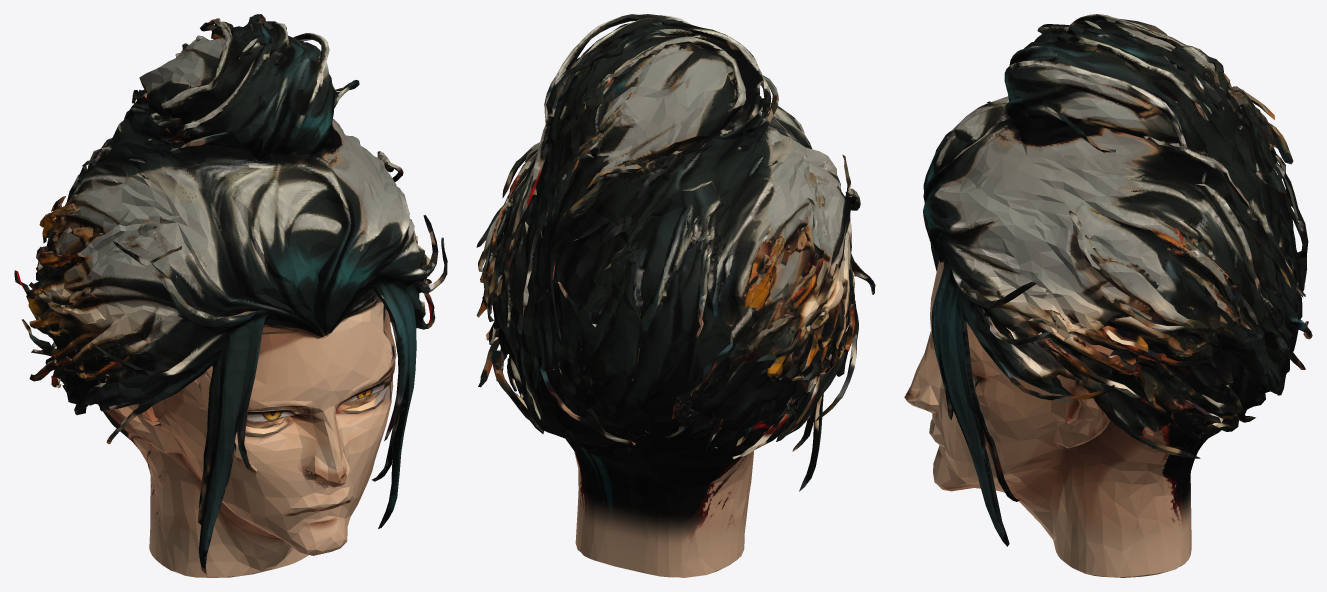
Rendered from side_citizen_repaired_atlas.glb.
3 renders of one model, left to right at view 1: azimuth 30°, elevation 25°; view 2: azimuth 150°, elevation 25°; view 3: azimuth 270°, elevation 25°, orthographic. The views are drawn at different scales.
Parts seen in each view (by area): view 1: temp_mesh.ply; view 2: temp_mesh.ply; view 3: temp_mesh.ply.
Boxes of the visible parts, left/top/right/bottom form: temp_mesh.ply: left=14, top=14, right=447, bottom=577; temp_mesh.ply: left=476, top=14, right=875, bottom=577; temp_mesh.ply: left=904, top=14, right=1312, bottom=577.
Bounding box in the file's own units: 1.43 × 1.97 × 1.41.
1 material, 1 textured.
